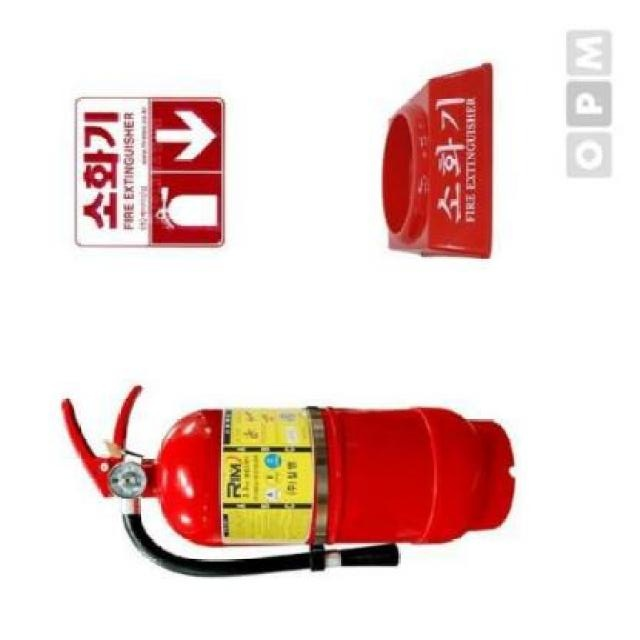fire extinguisher: (61, 385, 515, 578)
